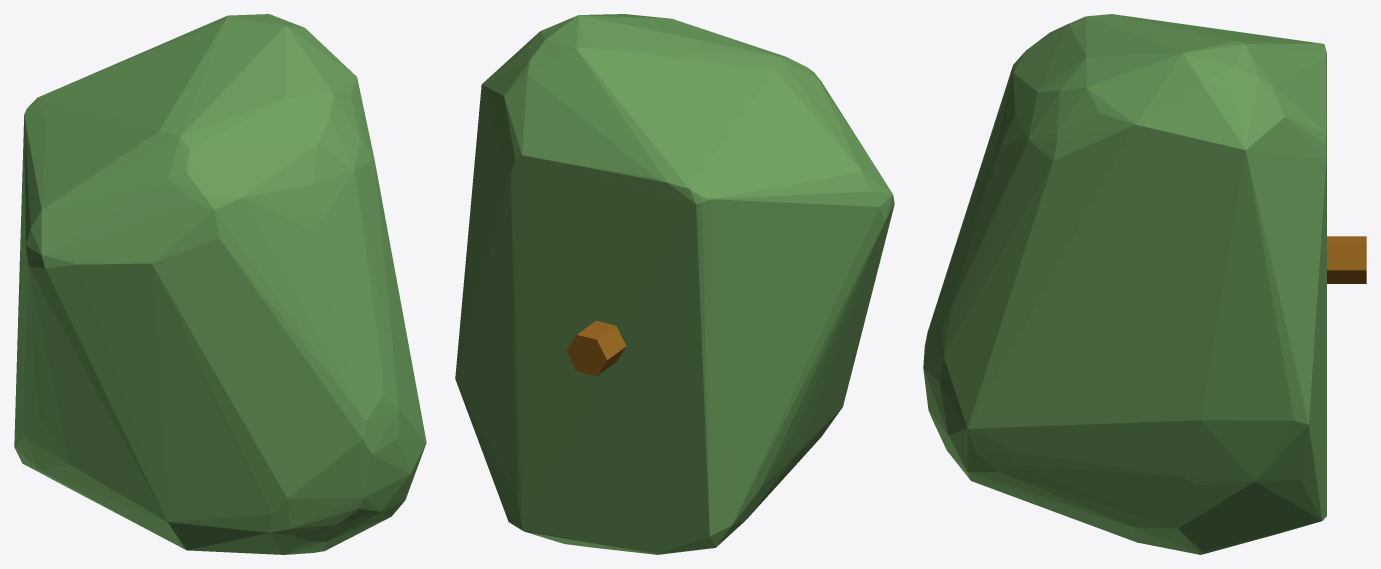
The model's file is broad_lod3.obj.
3 renders of one model, left to right at view 1: azimuth 30°, elevation 25°; view 2: azimuth 150°, elevation 25°; view 3: azimuth 270°, elevation 25°, orthographic. The views are drawn at different scales.
Size of the model in its own units: 20.28 by 27.33 by 21.86.
